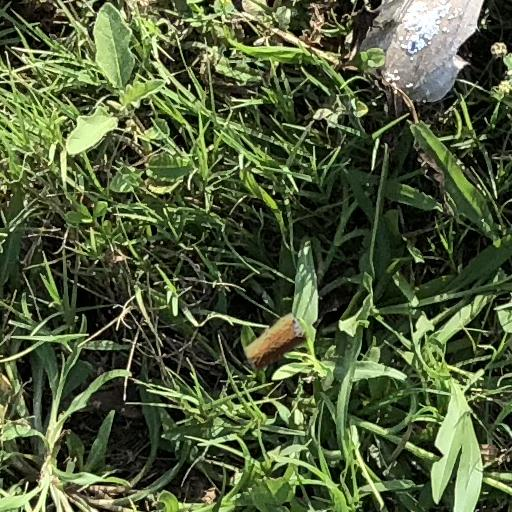smoke: (246, 314, 306, 370)
